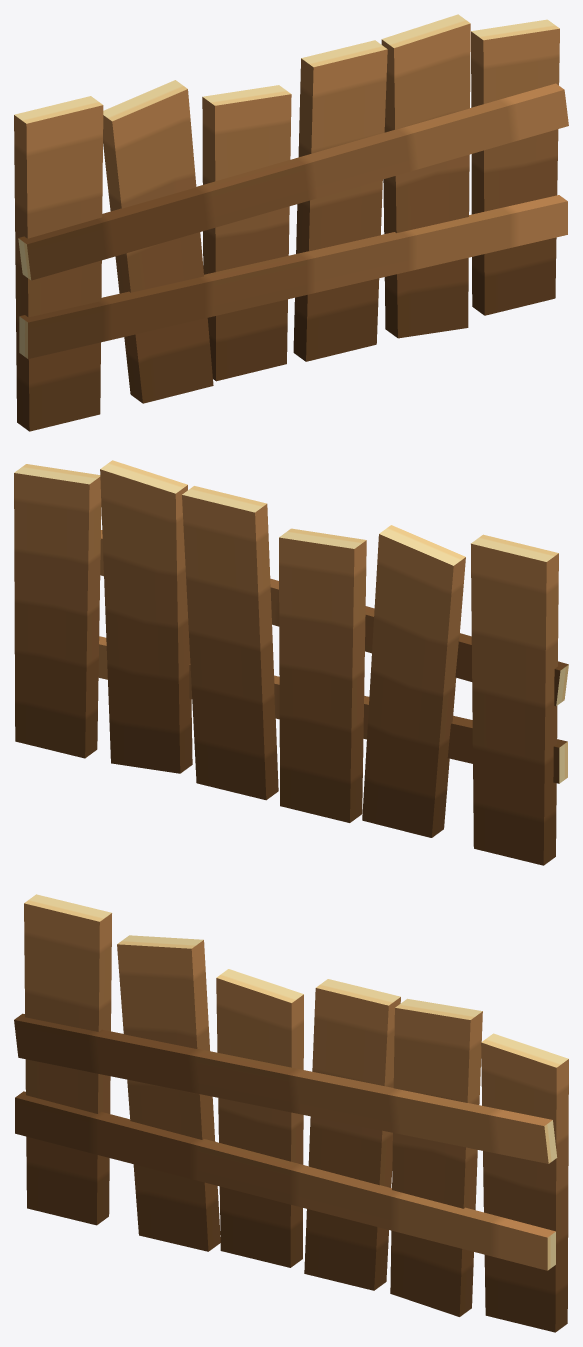
The model's file is wall_003.fbx.
3 views of the same model, one above another, from view 1: azimuth 30°, elevation 25°; view 2: azimuth 150°, elevation 25°; view 3: azimuth 330°, elevation 25° (orthographic).
Visible parts, largest first — view 1: wall.003; view 2: wall.003; view 3: wall.003.
Part boxes in pixels (box(x1,y1,x2,y2)): wall.003: box(14, 14, 568, 431); wall.003: box(14, 460, 568, 865); wall.003: box(14, 894, 568, 1332).
Bounding box in the file's own units: 31.94 × 17.56 × 2.31.
